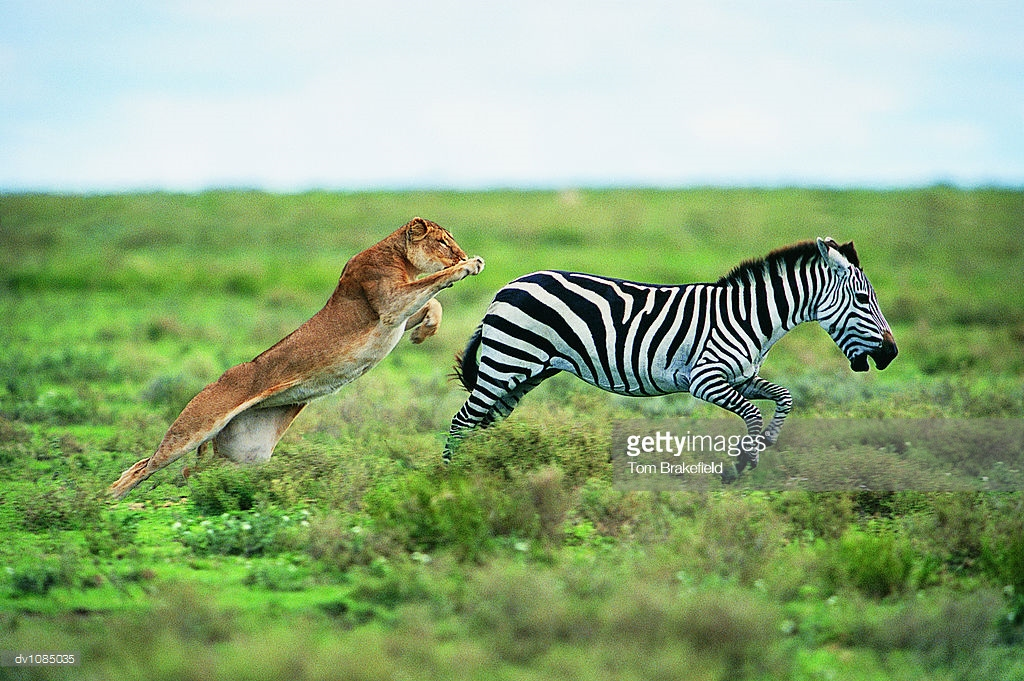lion: (108, 214, 485, 511)
zebra: (445, 238, 903, 445)
